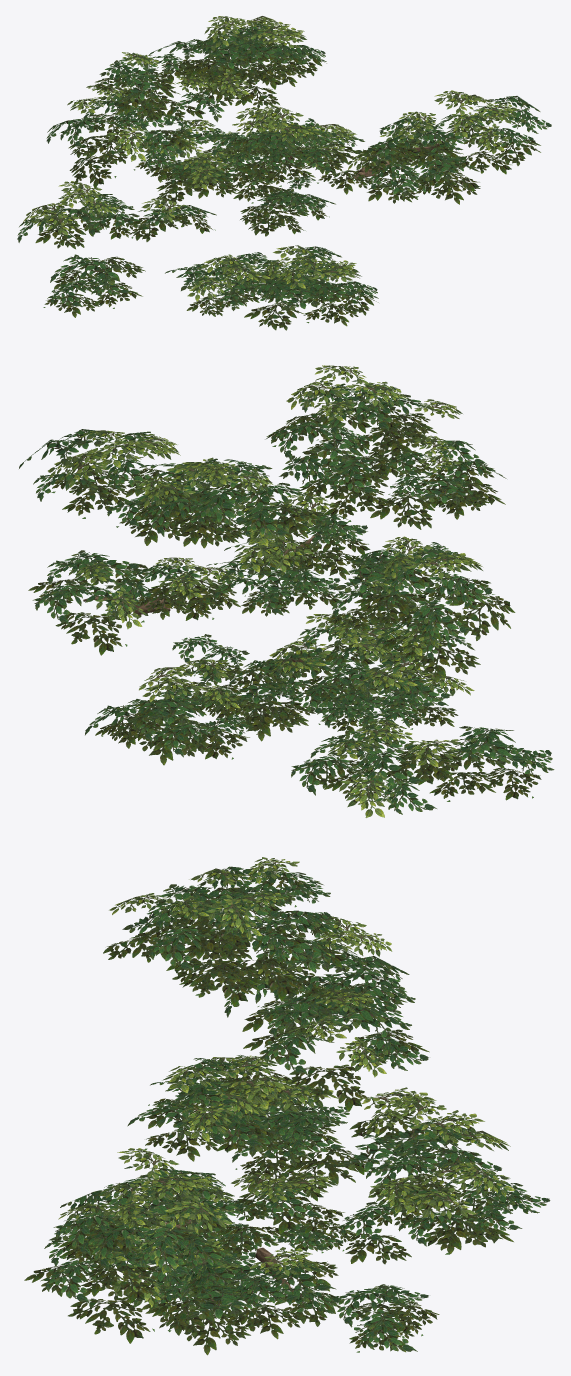
File: ss_shuye_3.FBX
The picture shows the model from 3 angles, top to bottom: view 1: azimuth 30°, elevation 25°; view 2: azimuth 150°, elevation 25°; view 3: azimuth 270°, elevation 25°; orthographic projection. The views are drawn at different scales.
Parts seen in each view (by area): view 1: ss_shuye_3; view 2: ss_shuye_3; view 3: ss_shuye_3.
Boxes of the visible parts, left/top/right/bottom form: ss_shuye_3: left=17, top=16, right=551, bottom=330; ss_shuye_3: left=19, top=365, right=554, bottom=817; ss_shuye_3: left=24, top=857, right=550, bottom=1355.
Size of the model in its own units: 907 by 548 by 660.
